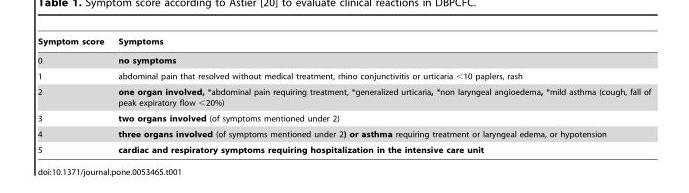table: (36, 36, 650, 154)
table column: (110, 36, 650, 154), (36, 36, 110, 154)
table column header: (36, 36, 650, 50)
table row: (36, 83, 650, 110), (36, 50, 650, 68), (36, 110, 650, 126), (36, 68, 650, 83), (36, 126, 650, 141), (36, 36, 650, 50), (36, 141, 650, 154)
